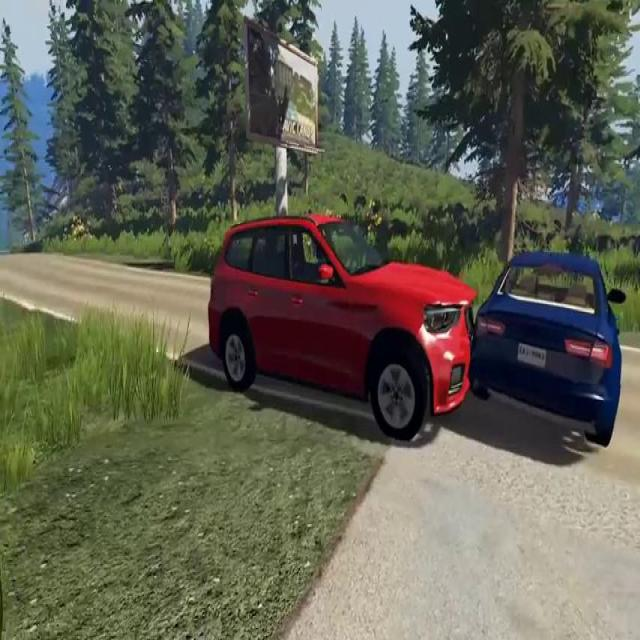moderate: (204, 202, 629, 449)
